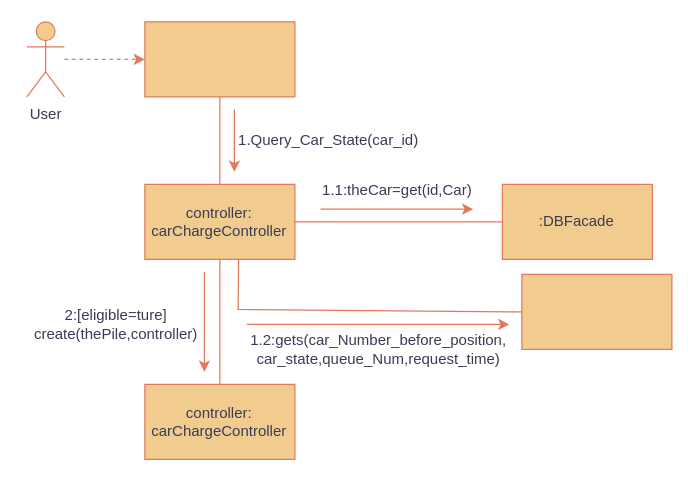
Image size: 694x481. Some labels were removed from this diagram. The shapes that lost their labels are listed below. From the top down, each one's centre as x and y in pixels, then its label:
At [219,59]: ":<<UI>> waiting Window".
At [596,311]: "theQueue: Queue".
